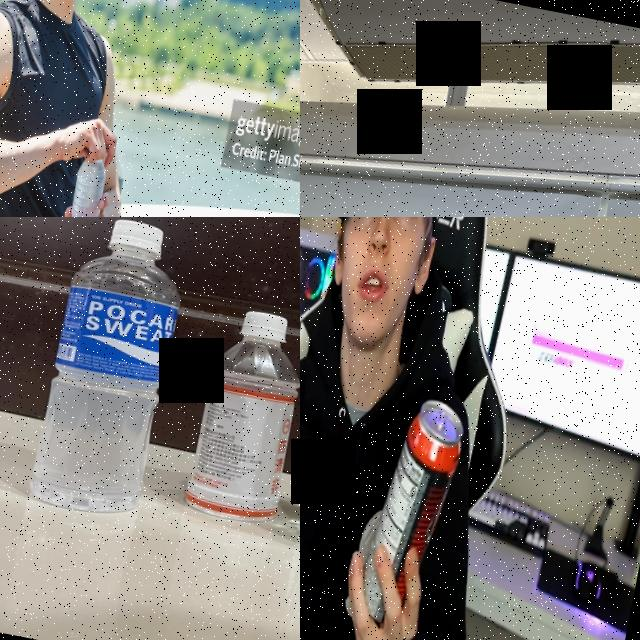bottle: (27, 217, 195, 522), (181, 305, 300, 529), (55, 147, 115, 217)
can: (352, 392, 470, 638)
